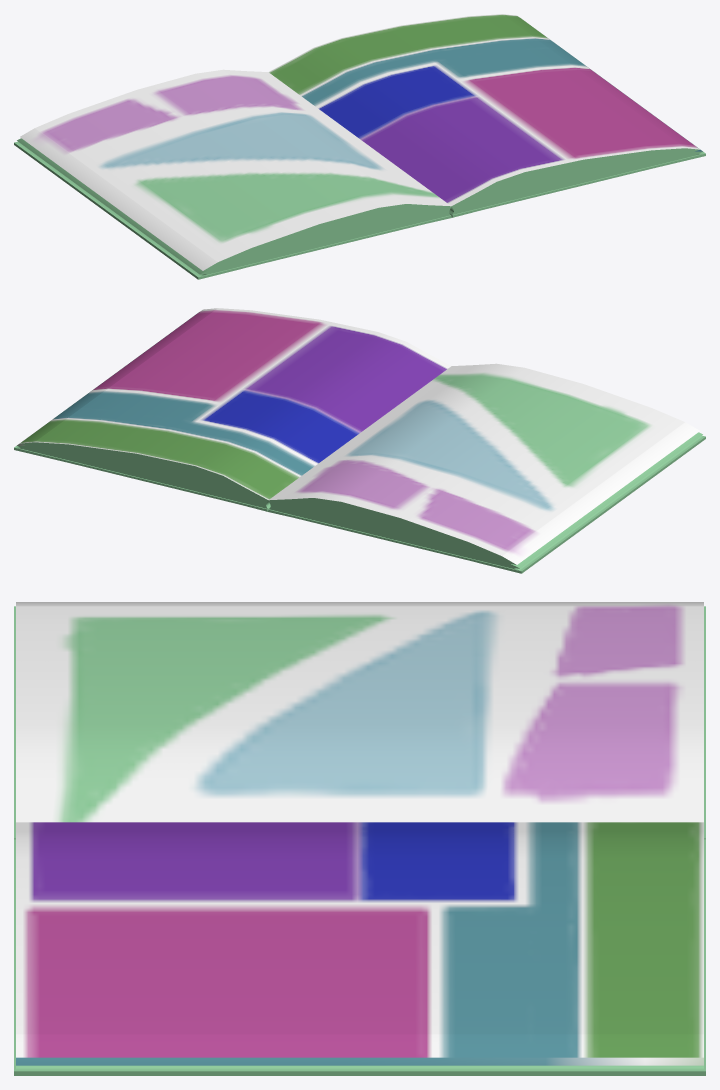
Rendered from Revista2C.obj.
The picture shows the model from 3 angles, top to bottom: view 1: azimuth 30°, elevation 25°; view 2: azimuth 150°, elevation 25°; view 3: azimuth 270°, elevation 25°; orthographic projection. The views are drawn at different scales.
Visible parts, largest first — view 1: revista_pCube3; view 2: revista_pCube3; view 3: revista_pCube3.
Part boxes in pixels (x1,y1,x2,y2): revista_pCube3: (14, 14, 705, 279); revista_pCube3: (14, 308, 705, 573); revista_pCube3: (14, 602, 705, 1075).
Size of the model in its own units: 8.95 by 0.4637 by 5.63.
1 material, 1 textured.
